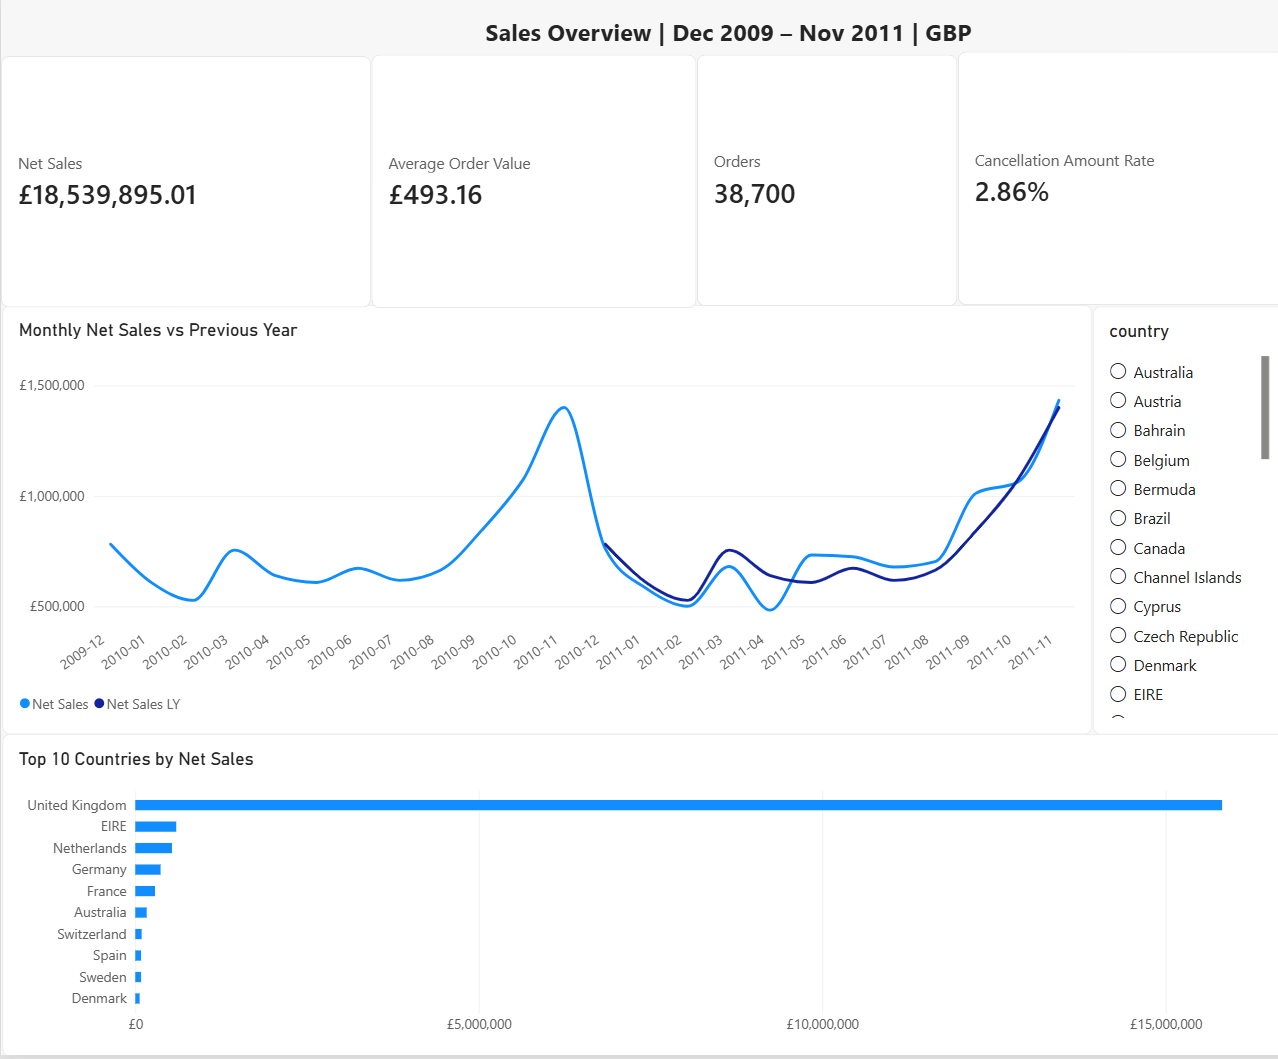

This screenshot's page, from the dashboard's own definition file:
{"tool":"powerbi","page":{"name":"Sales Overview","canvas":[1920,1080],"ordinal":1},"visuals":[{"type":"lineChart","title":"Monthly Net Sales vs Previous Year","fields":{"Category":["Calendar.Year Month"],"Y":["Transactions.Net Sales","Calendar.Net Sales LY"]},"box":[1.8,312.7,1113.6,438.9],"z":0},{"type":"cardVisual","fields":{"Data":["Transactions.Net Sales"]},"box":[0,58.5,378.5,257.8],"z":1000},{"type":"cardVisual","fields":{"Data":["Transactions.Orders"]},"box":[711.3,56.7,267,257.8],"z":2000},{"type":"cardVisual","fields":{"Data":["Transactions.Average Order Value"]},"box":[378.5,56.7,332.8,259.7],"z":3000},{"type":"cardVisual","fields":{"Data":["Transactions.Cancellation Amount Rate"]},"box":[978.3,53,334.6,259.7],"z":4000},{"type":"listSlicer","fields":{"Values":["Transactions.country"]},"box":[1115.4,314.5,197.5,437],"z":5000},{"type":"clusteredBarChart","title":"Top 10 Countries by Net Sales","fields":{"Category":["Transactions.country"],"Y":["Transactions.Net Sales"]},"box":[1.8,751.5,1311.1,329.1],"z":6000},{"type":"textbox","box":[495,17.5,517.5,38.8],"z":7000}]}

Visuals, with their boxes on the page's 1920x1080 design canvas (x1, y1, x2, y2). These are canvas units, not pixel positions in the 1278x1059 screenshot, which may show the page scaled, cropped or inside an application window:
"Monthly Net Sales vs Previous Year" lineChart: [2, 313, 1115, 752]
cardVisual - Transactions.Net Sales: [0, 58, 378, 316]
cardVisual - Transactions.Orders: [711, 57, 978, 314]
cardVisual - Transactions.Average Order Value: [378, 57, 711, 316]
cardVisual - Transactions.Cancellation Amount Rate: [978, 53, 1313, 313]
listSlicer - Transactions.country: [1115, 314, 1313, 752]
"Top 10 Countries by Net Sales" clusteredBarChart: [2, 752, 1313, 1081]
textbox: [495, 18, 1012, 56]
